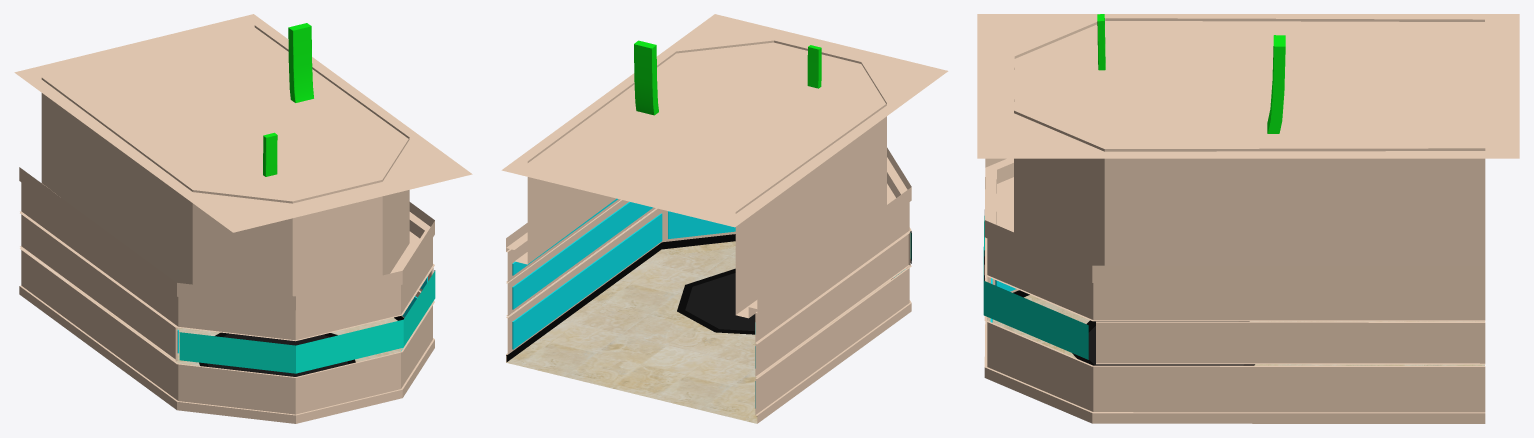
The model's file is 24_Room_Realsize.FBX.
3 views of the same model, side by side, from view 1: azimuth 30°, elevation 25°; view 2: azimuth 150°, elevation 25°; view 3: azimuth 270°, elevation 25° (orthographic). The views are drawn at different scales.
Visible parts, largest first — view 1: 24_Room_Realsize; view 2: 24_Room_Realsize; view 3: 24_Room_Realsize.
Boxes of the visible parts, x1,y1,x2,y2 form: 24_Room_Realsize: (14, 14, 472, 423); 24_Room_Realsize: (501, 14, 948, 423); 24_Room_Realsize: (977, 14, 1519, 423).
Bounding box in the file's own units: 619 × 645 × 910.
